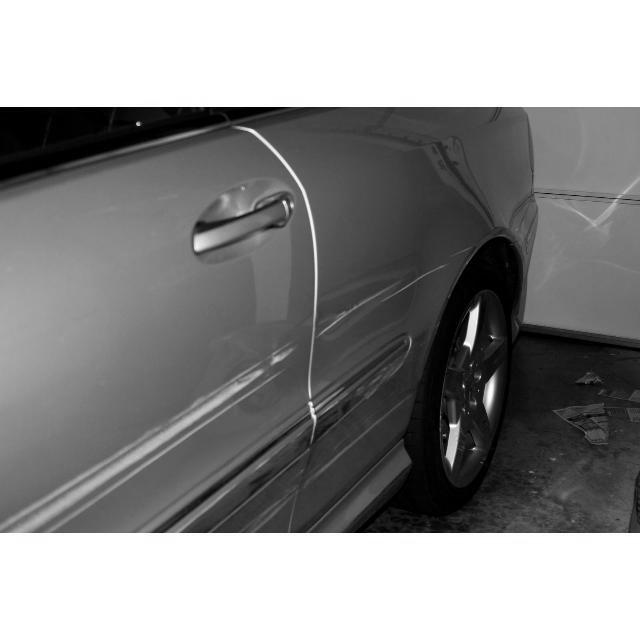doorouter-dent: (66, 170, 328, 531)
